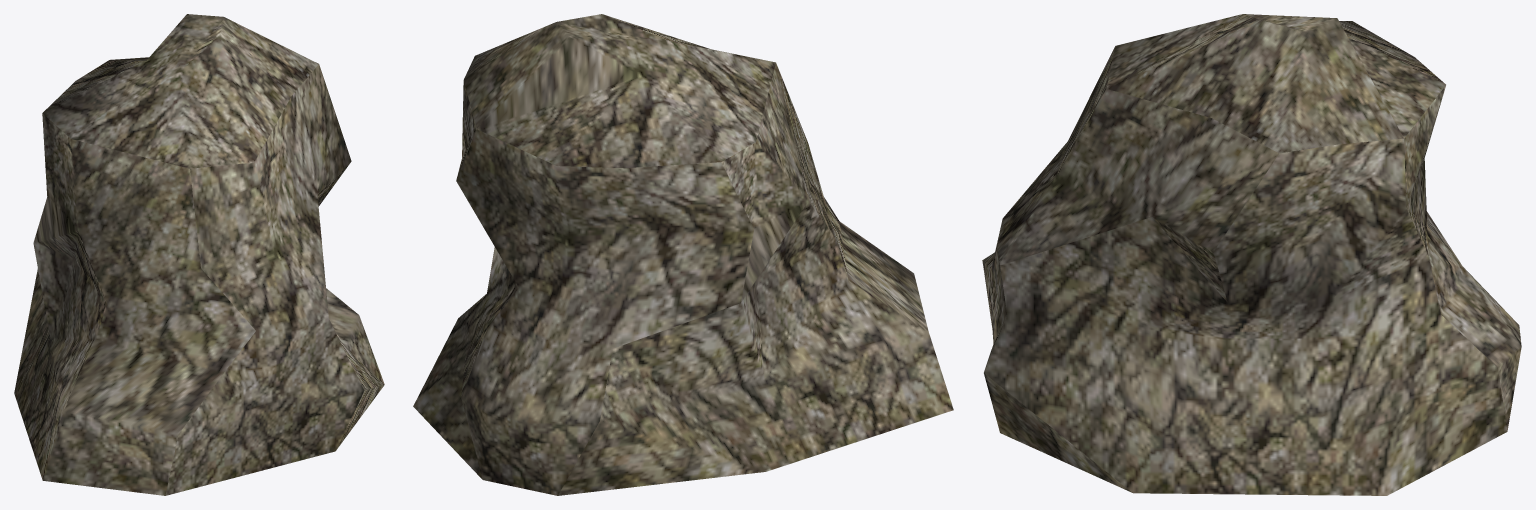
File: general_obj_bigstone05.glb
3 renders of one model, left to right at view 1: azimuth 30°, elevation 25°; view 2: azimuth 150°, elevation 25°; view 3: azimuth 270°, elevation 25°, orthographic. The views are drawn at different scales.
Visible parts, largest first — view 1: Sphere01; view 2: Sphere01; view 3: Sphere01.
Part boxes in pixels (left/top/right/bottom): Sphere01: left=14, top=14, right=384, bottom=495; Sphere01: left=413, top=14, right=953, bottom=495; Sphere01: left=982, top=14, right=1521, bottom=495.
Size of the model in its own units: 17.47 by 15.74 by 18.79.
Materials: 1 (1 with a texture image).
